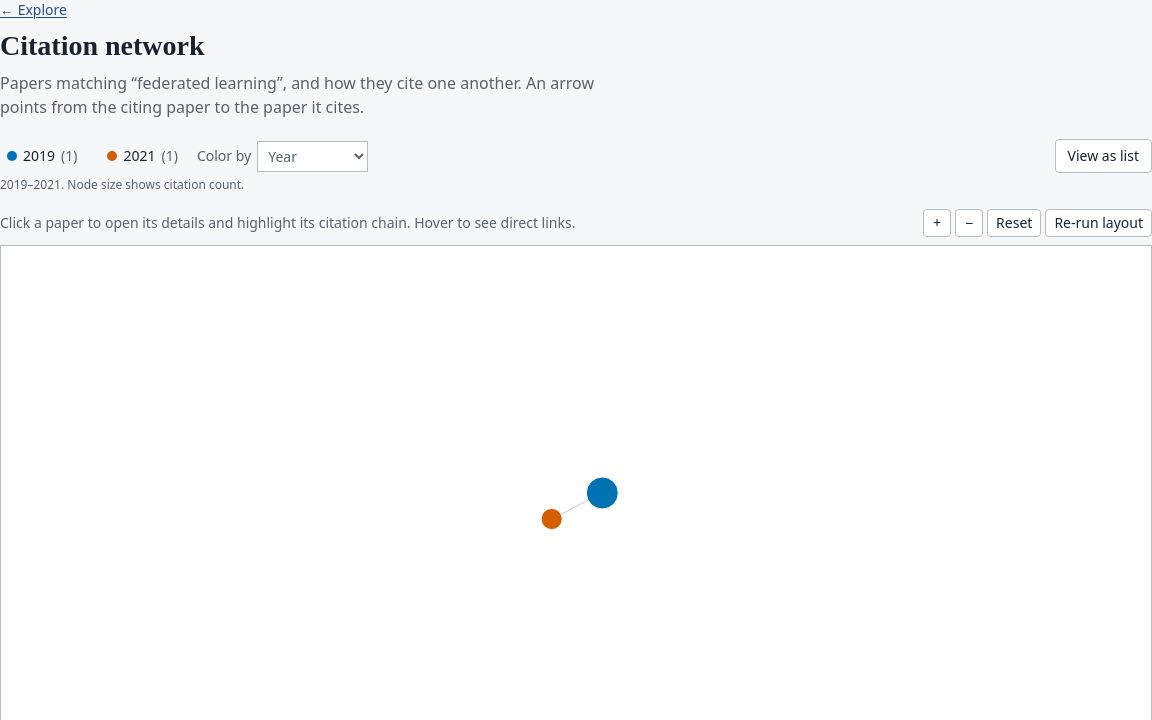
it: CitationNetworkView › opens the paper drawer and fetches the citation chain when a paper is selected
Click the button "View as list" at (1103, 156), box [1054, 139, 1151, 173]
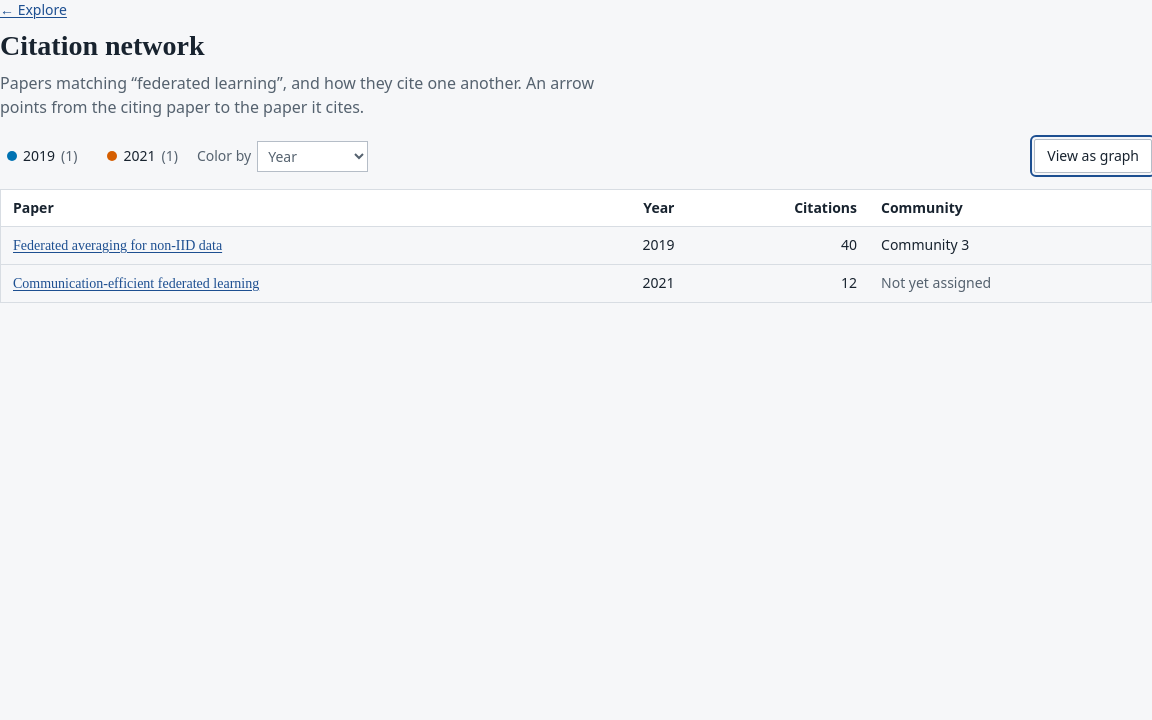
Click the text "12" at (849, 282), box [686, 264, 869, 302]
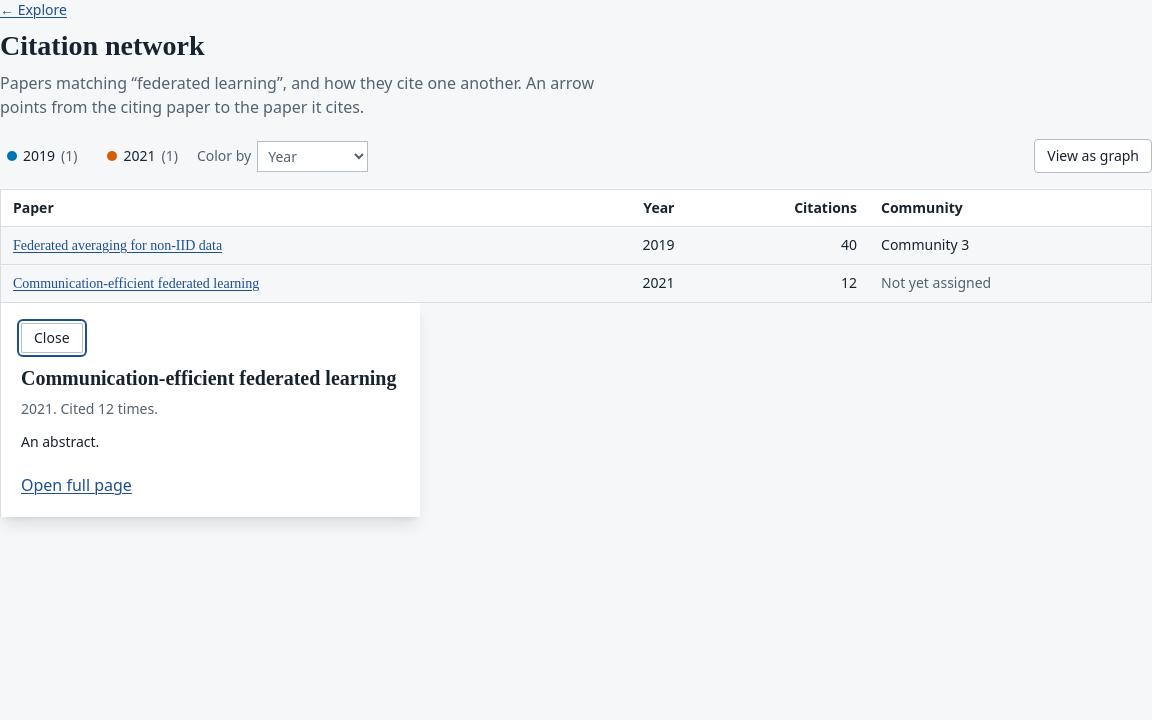
Expected: the link "Open full page" is shown, [21, 474, 132, 496]
